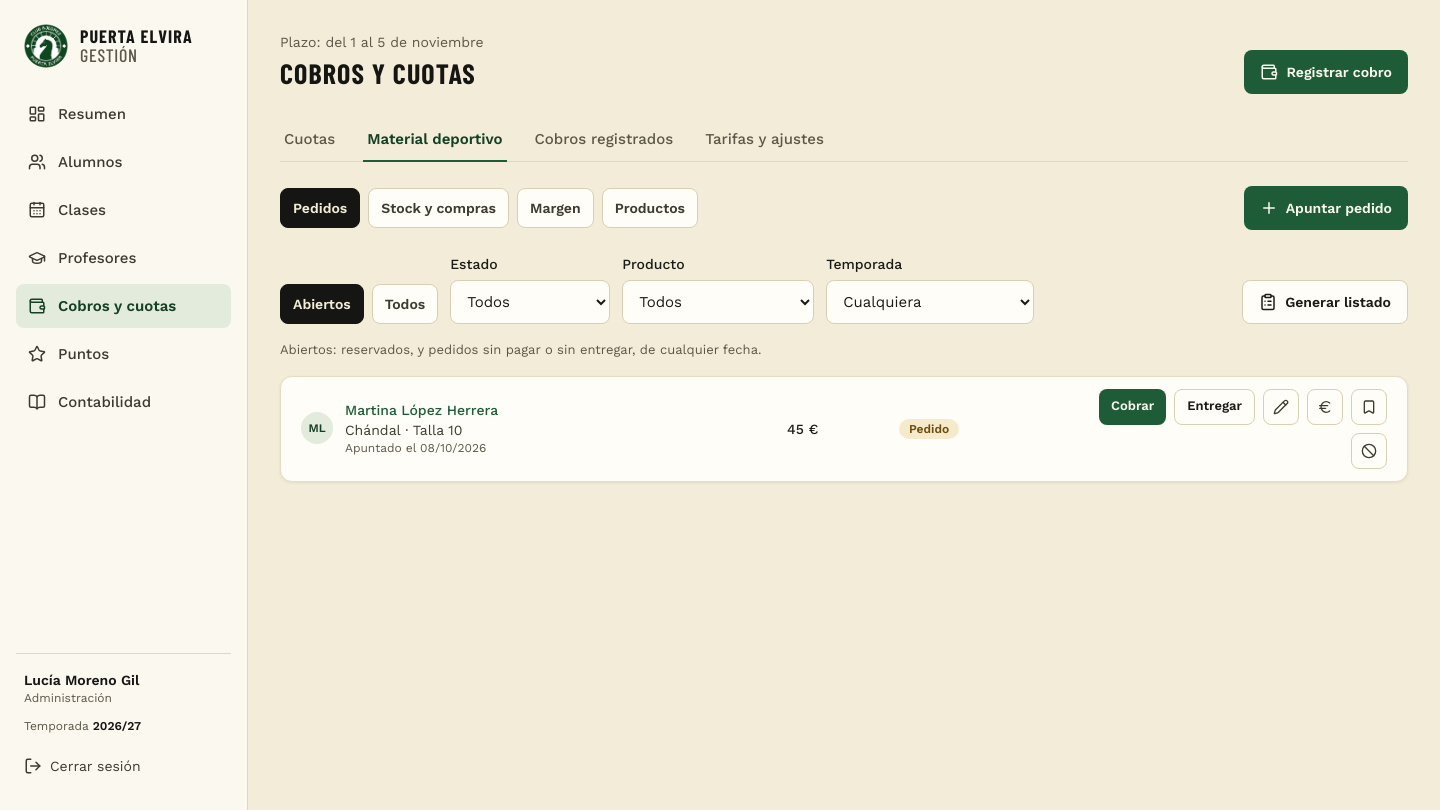
Test: Material deportivo › takes an order with nothing paid back to reservation
Click the button named "Volver a reservado". click: (1369, 406)
box: [1351, 388, 1387, 424]
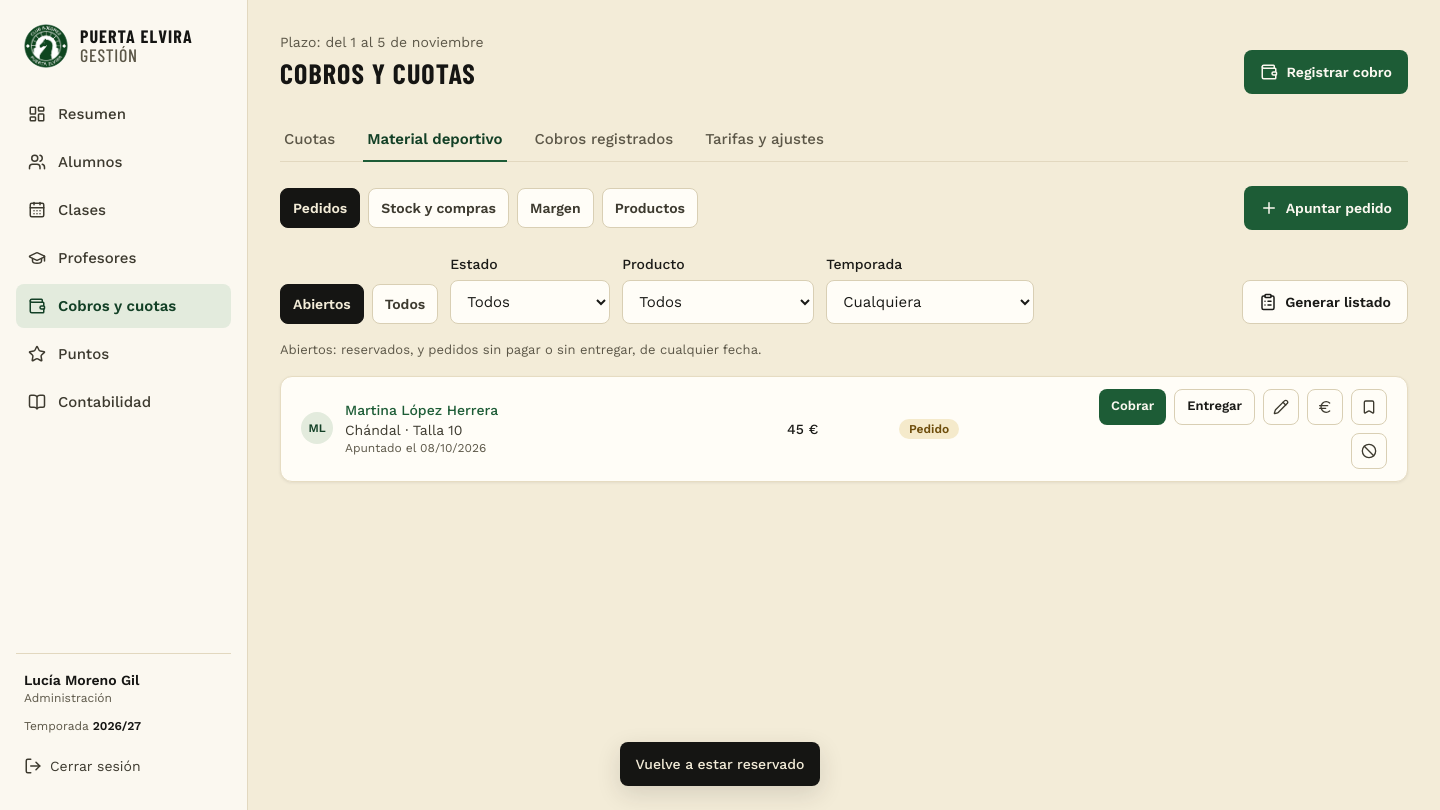
Check: the text "Vuelve a estar reservado" is shown, box [620, 742, 820, 786]
